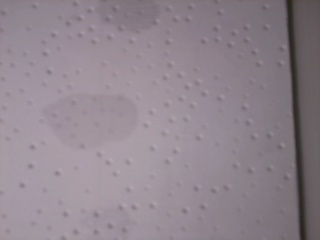Water_detected: (58, 97, 133, 146), (89, 201, 120, 235), (98, 0, 140, 20)
